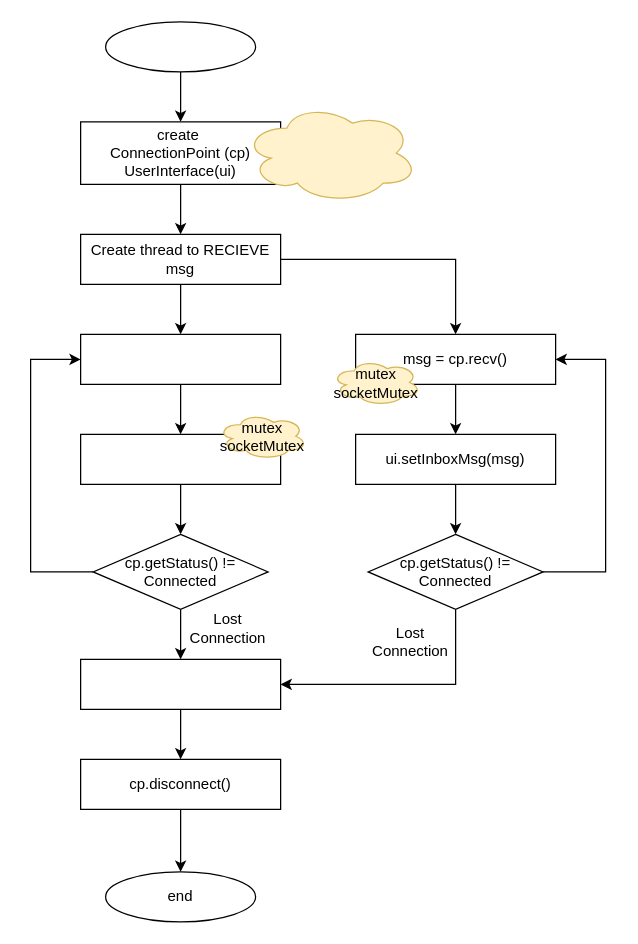
Some shapes in this 638 by 944 pixel diagram are drawn without their labels. Each missing label, with the box of its shape:
begin: (104, 21, 256, 72)
cp.send(msg): (79, 433, 281, 484)
Join RECIEVE thread: (79, 658, 281, 709)
msg = ui.getUserInput(): (79, 333, 281, 384)
perform Accept (server) Connect (client): (242, 102, 418, 203)
